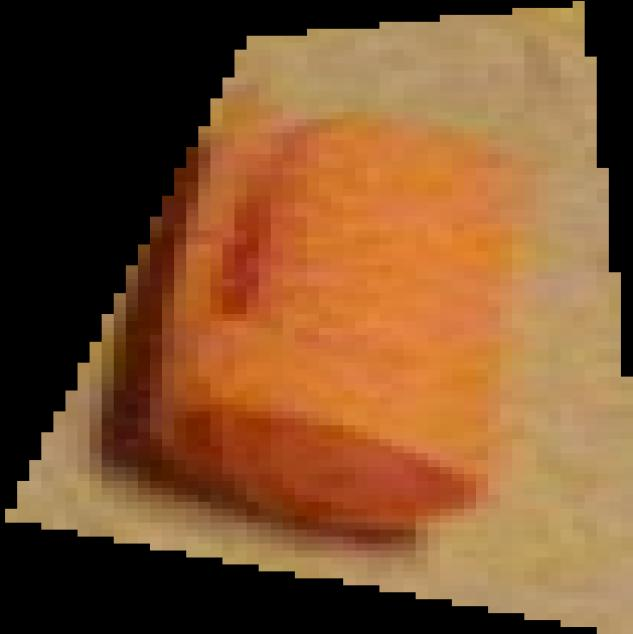orange: (1, 0, 633, 634)
